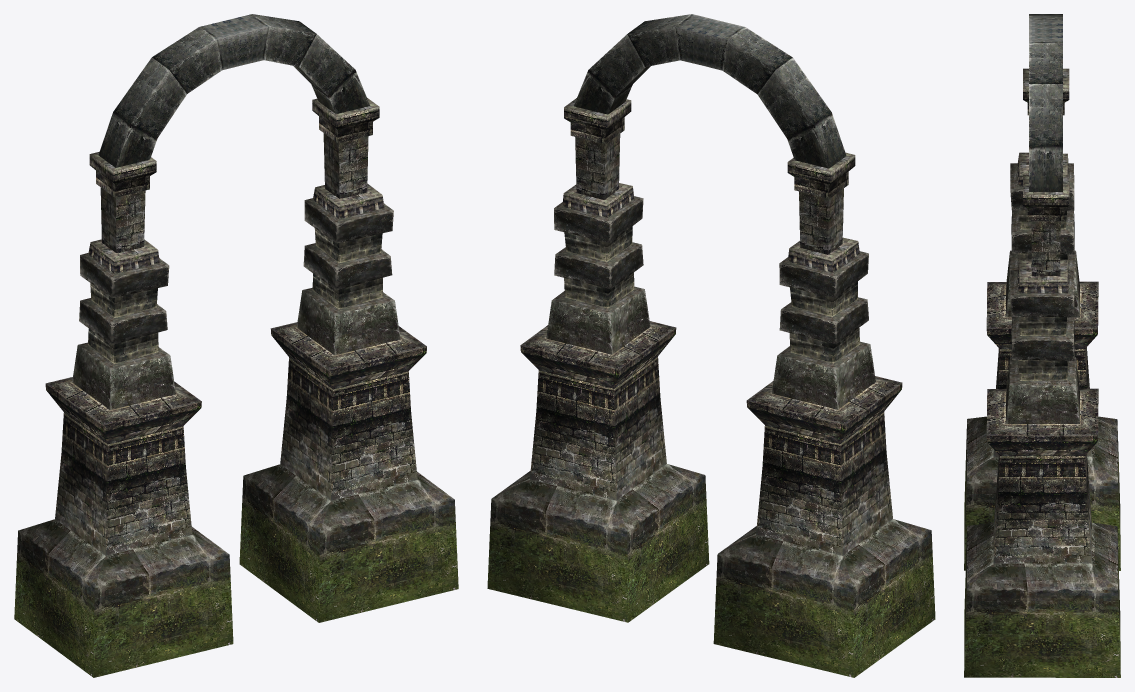
File: OZ_09_mi_arch01A.glb
3 renders of one model, left to right at view 1: azimuth 30°, elevation 25°; view 2: azimuth 150°, elevation 25°; view 3: azimuth 270°, elevation 25°, orthographic. The views are drawn at different scales.
Visible parts, largest first — view 1: OM_09_mi_arch01A; view 2: OM_09_mi_arch01A; view 3: OM_09_mi_arch01A.
Part boxes in pixels (x1,y1,x2,y2): OM_09_mi_arch01A: [14, 14, 458, 677]; OM_09_mi_arch01A: [487, 14, 935, 677]; OM_09_mi_arch01A: [964, 14, 1120, 677].
Bounding box in the file's own units: 12.49 × 18.8 × 4.77.
Materials: 2 (2 with a texture image).
